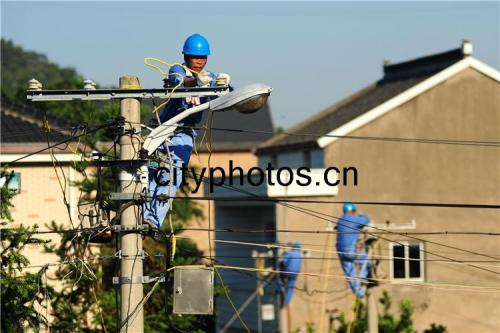boots: (209, 83, 273, 114)
hard-hat: (182, 32, 211, 56), (343, 202, 357, 211)
person: (142, 32, 234, 230), (333, 201, 375, 298)
ppe-suit: (141, 61, 231, 231), (333, 212, 373, 298)
